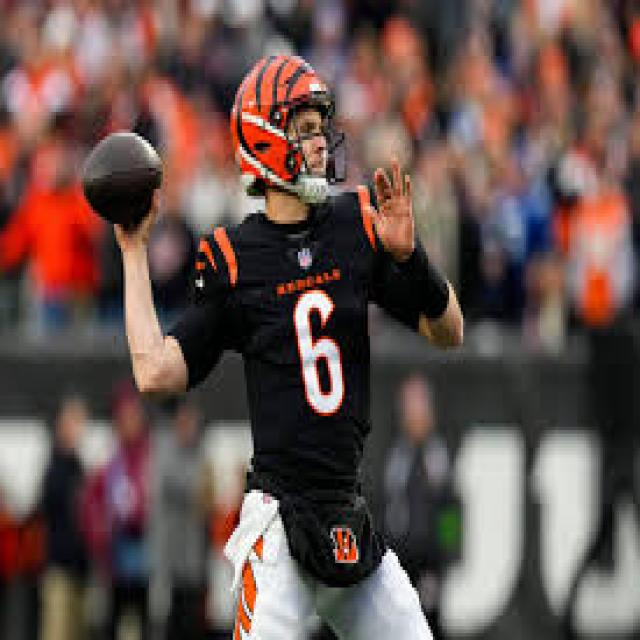Ball: (81, 128, 166, 219)
